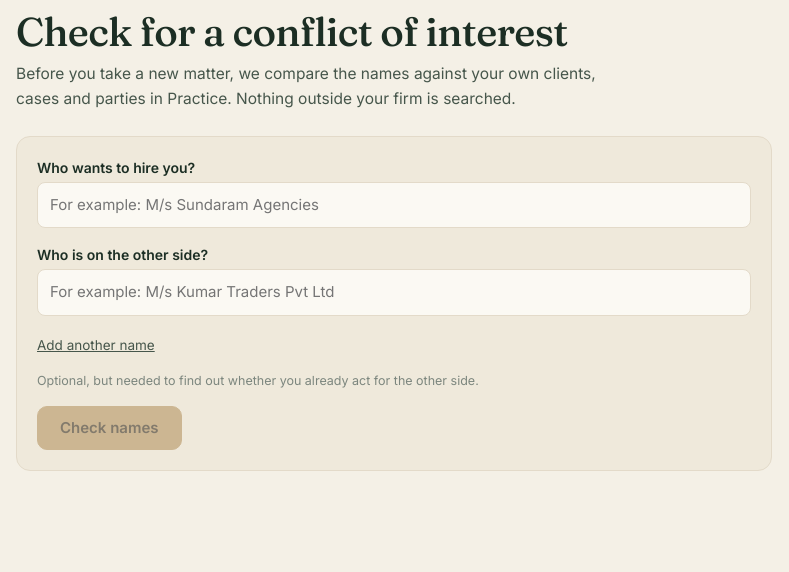
Test: ConflictCheck › shows a plain message when there is no practice set up yet
The width and height of the screenshot is (789, 572).
Type "Anyone" into the field labelled "Who wants to hire you?".
click(394, 205); type("Anyone")  # box [37,182,751,228]
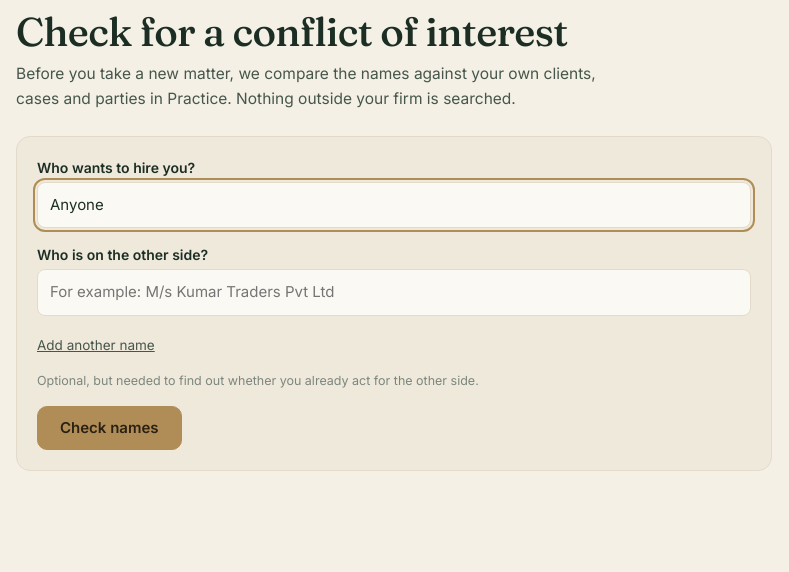
Click the button "Check names".
click(109, 428)  # box [37,406,182,450]
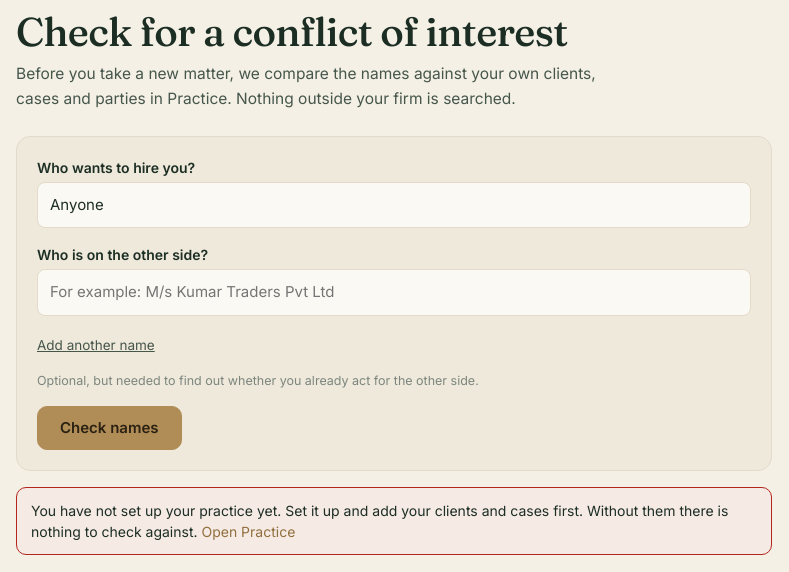
Now the text "set up your practice" is shown, box [31,502,728,540]
